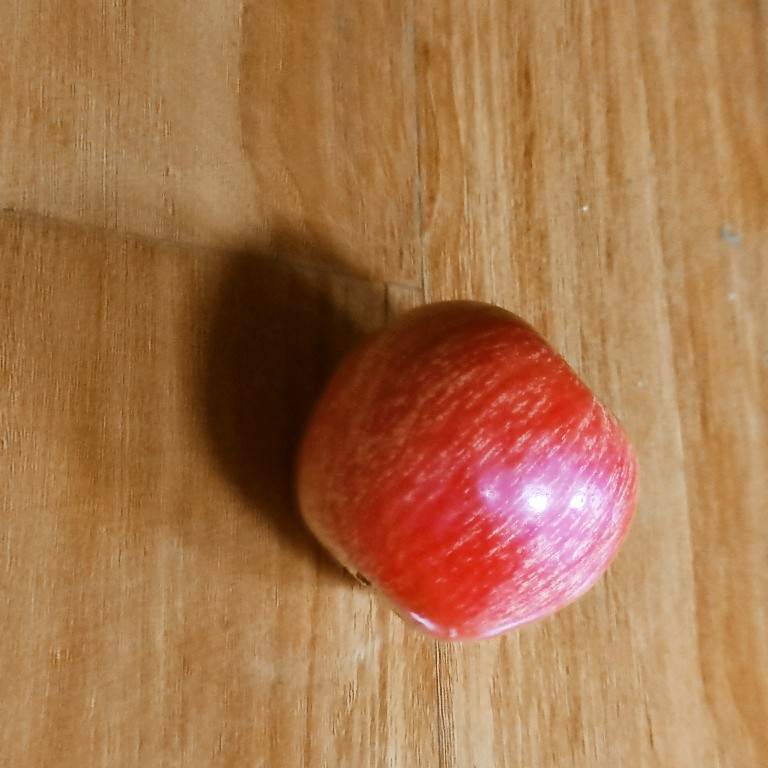fruit_apple: (289, 291, 643, 650)
